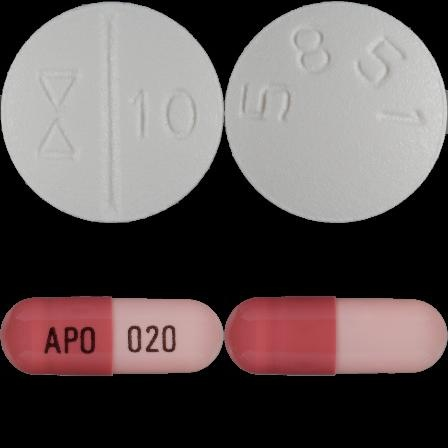50436-0053: (0, 0, 224, 224)
